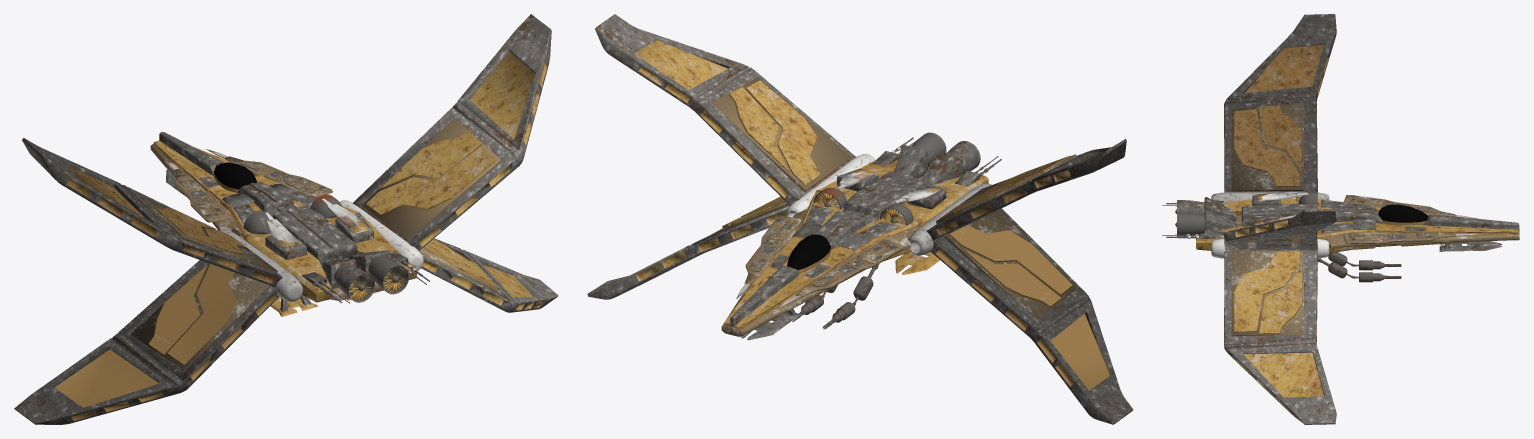
Rendered from futuristic-sci-fi-spaceship.glb.
3 views of the same model, side by side, from view 1: azimuth 30°, elevation 25°; view 2: azimuth 150°, elevation 25°; view 3: azimuth 270°, elevation 25° (orthographic). The views are drawn at different scales.
Visible parts, largest first — view 1: Base_spaceship_Baked static; view 2: Base_spaceship_Baked static; view 3: Base_spaceship_Baked static.
Part boxes in pixels (left/top/right/bottom): Base_spaceship_Baked static: left=14, top=14, right=558, bottom=424; Base_spaceship_Baked static: left=587, top=14, right=1133, bottom=424; Base_spaceship_Baked static: left=1162, top=14, right=1519, bottom=424.
Bounding box in the file's own units: 46.89 × 23.21 × 35.1.
Materials: 5 (5 with a texture image).
